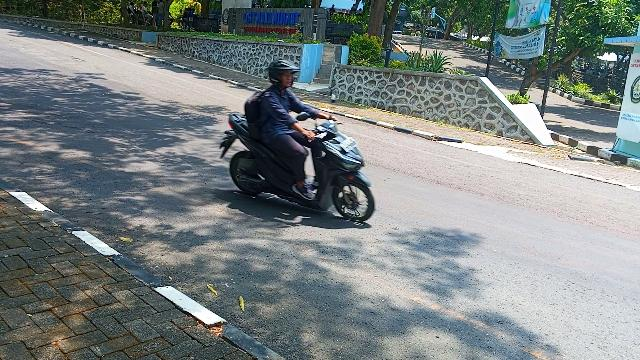helm: (268, 59, 302, 91)
motor: (219, 108, 377, 223)
